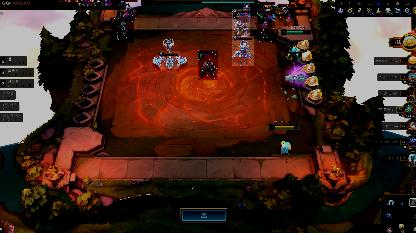1_lux: (257, 10, 275, 42)
1_sylas: (198, 50, 218, 80)
1_varus: (232, 9, 250, 37), (277, 4, 295, 26)
2_nidalee: (114, 17, 134, 43)
2_skarner: (160, 51, 180, 69)
2_vladimir: (232, 36, 254, 66)
